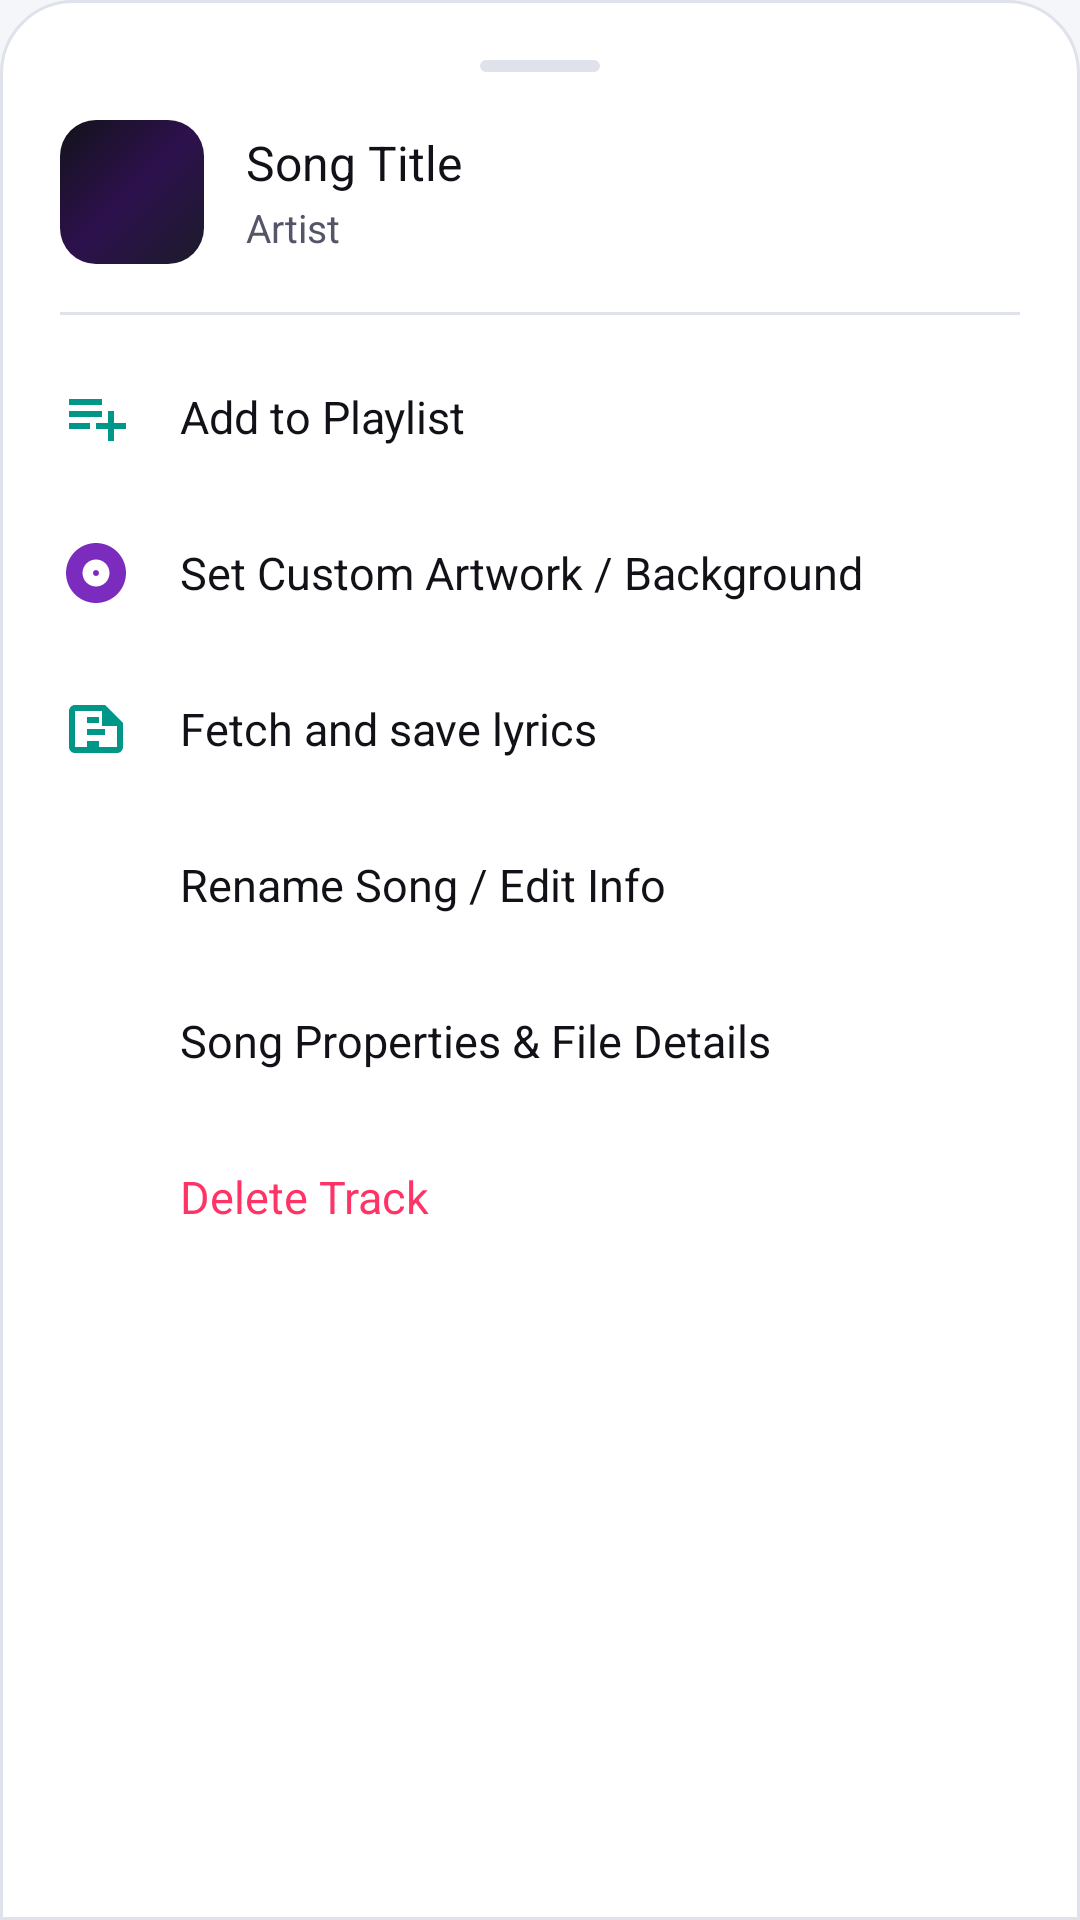

Icons on this 1080*1920 Android screen, each with the point to tap as point (x, y):
album: point (96, 573)
